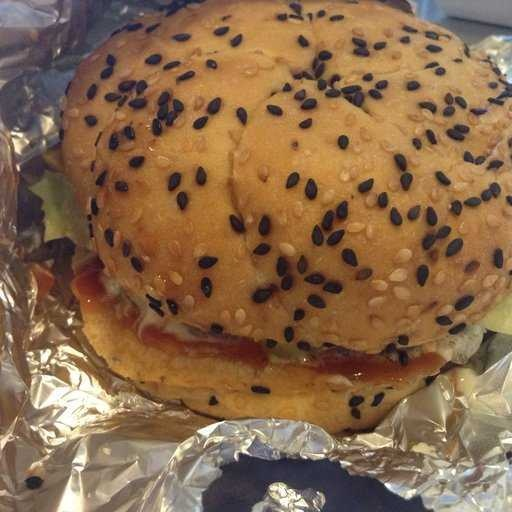hamburger: (38, 1, 497, 410)
